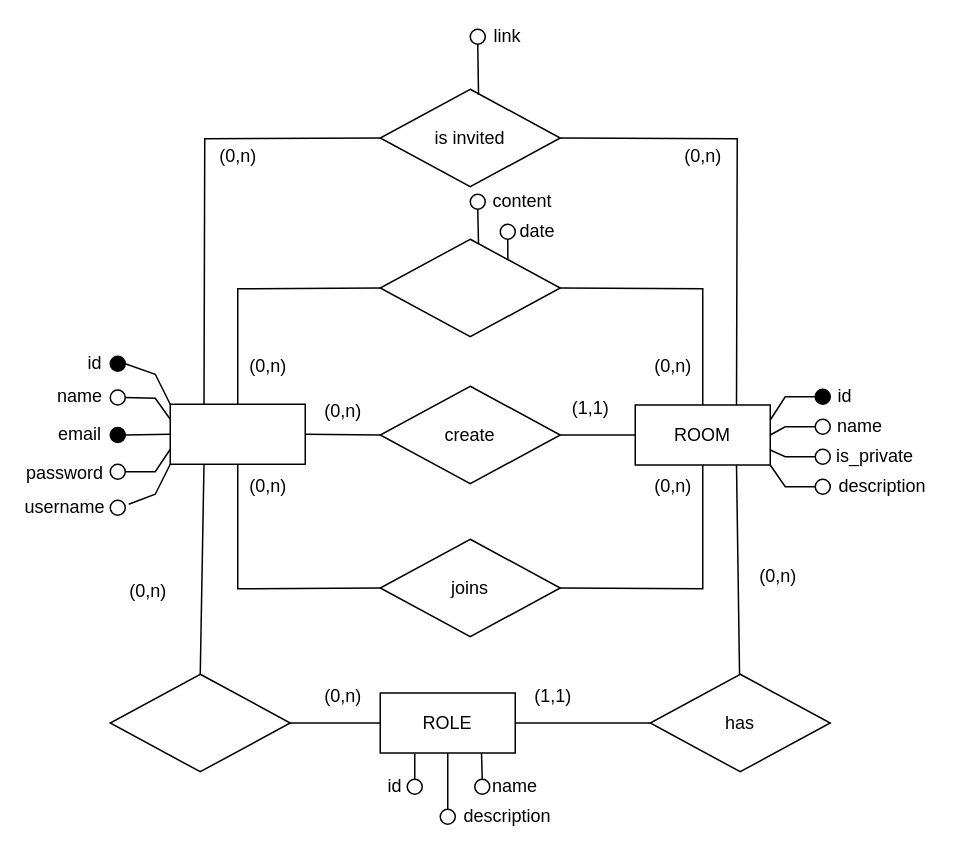
The diagram is 953 pixels wide and 852 high, and some of its shapes have lost their labels. The shapes that lost their labels are listed below. From the top down, each one's centre as x and y in pixels, then its label:
At pixel 469 287: "send message".
At pixel 237 433: "USER".
At pixel 199 722: "is asigned".
